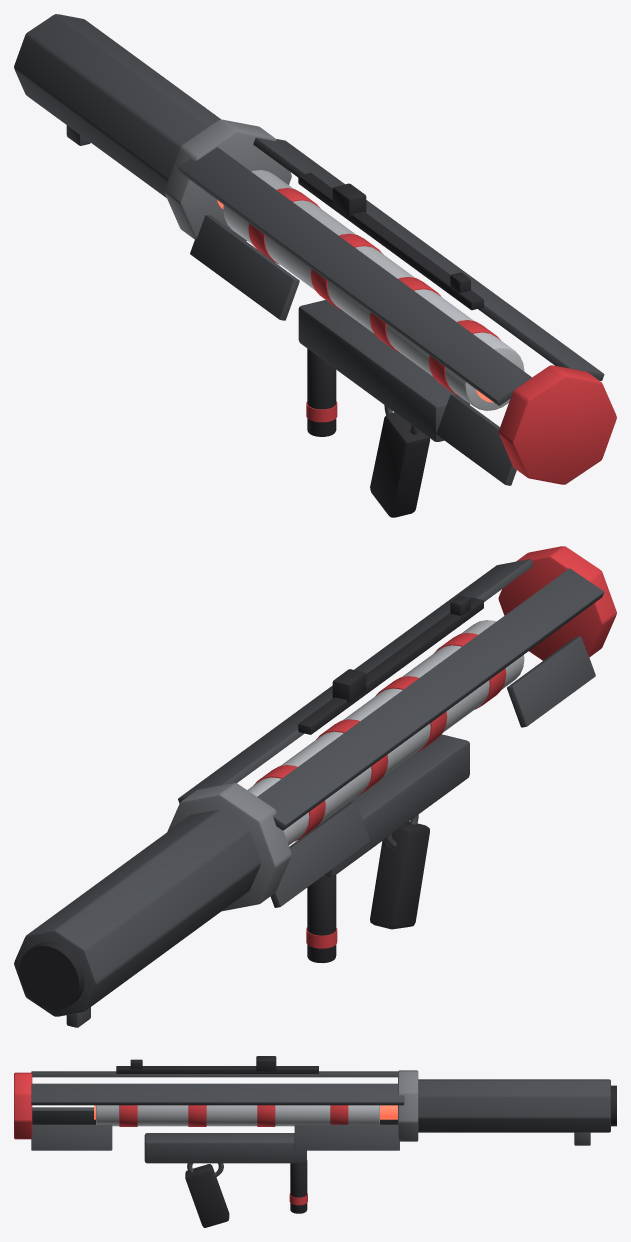
File: oathkeeper.glb
3 renders of one model, top to bottom at view 1: azimuth 30°, elevation 25°; view 2: azimuth 150°, elevation 25°; view 3: azimuth 270°, elevation 25°, orthographic. The views are drawn at different scales.
Parts seen in each view (by area): view 1: Cylinder.006, Cube.003, Cylinder.009, Cube.015, Cylinder.001, Cube.002, Cylinder.007, Cube.011, Cube.016, Cube.012, Cube.004, Cube.010 (+7 smaller); view 2: Cylinder.006, Cube.003, Cube.015, Cube.009, Cylinder.001, Cube.002, Cylinder.009, Cylinder.007, Cube.016, Cube.011, Cube.004, Cylinder.008 (+9 smaller); view 3: Cylinder.006, Cube.002, Cube.015, Cylinder.001, Cube.001, Cube, Cube.003, Cube.016, Cube.012, Cylinder.007, Cylinder.009, Cube.008 (+9 smaller).
Part boxes in pixels (x1,y1,x2,y2): Cylinder.006: (14, 14, 220, 197); Cube.003: (178, 147, 531, 405); Cylinder.009: (498, 365, 616, 484); Cube.015: (298, 300, 469, 441); Cylinder.001: (223, 170, 524, 410); Cube.002: (253, 137, 604, 380); Cylinder.007: (164, 119, 291, 241); Cube.011: (190, 215, 299, 319); Cube.016: (370, 412, 429, 517); Cube.012: (298, 172, 483, 310); Cube.004: (436, 394, 516, 485); Cube.010: (436, 394, 516, 485); Cylinder.006: (14, 810, 260, 1016); Cube.003: (257, 568, 603, 830); Cube.015: (318, 734, 469, 876); Cube.009: (274, 571, 604, 830); Cylinder.001: (247, 620, 524, 845); Cube.002: (178, 559, 533, 803); Cylinder.009: (498, 546, 616, 660); Cylinder.007: (167, 783, 291, 911); Cube.016: (370, 821, 429, 929); Cube.011: (271, 801, 370, 906); Cube.004: (507, 636, 595, 727); Cylinder.008: (19, 942, 84, 1010); Cylinder.006: (418, 1079, 610, 1132); Cube.002: (31, 1083, 404, 1104); Cube.015: (144, 1133, 306, 1163); Cylinder.001: (96, 1105, 379, 1126); Cube.001: (294, 1124, 399, 1150); Cube: (31, 1124, 112, 1150); Cube.003: (31, 1071, 397, 1077); Cube.016: (185, 1164, 229, 1227); Cube.012: (116, 1066, 318, 1073); Cylinder.007: (398, 1070, 418, 1141); Cylinder.009: (14, 1072, 32, 1139); Cube.008: (31, 1084, 403, 1105).
Size of the model in its own units: 0.1862 by 0.4546 by 1.49.
